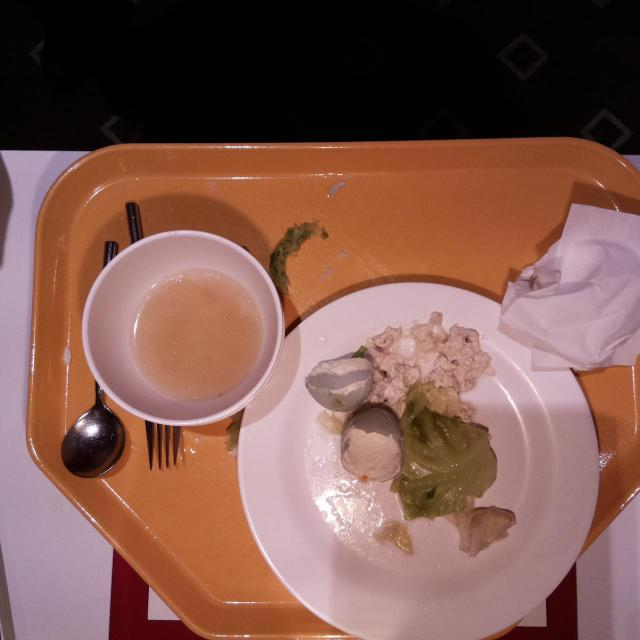Egg-shell: (339, 405, 401, 483), (306, 352, 374, 414)
Vegetable: (398, 398, 500, 523)
